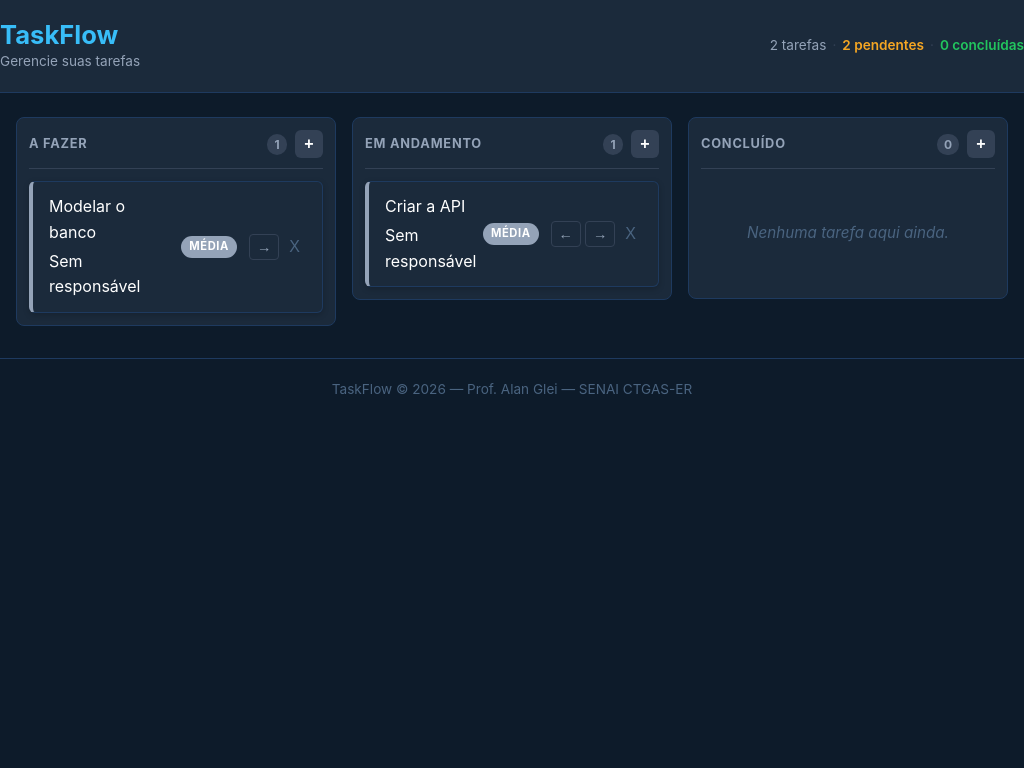
Test: Kanban › criar: o + abre o modal e a tarefa aparece
Click the button titled "Nova tarefa em A Fazer" in the row of "A Fazer". click: {"x": 309, "y": 144}
box: [295,130,323,158]
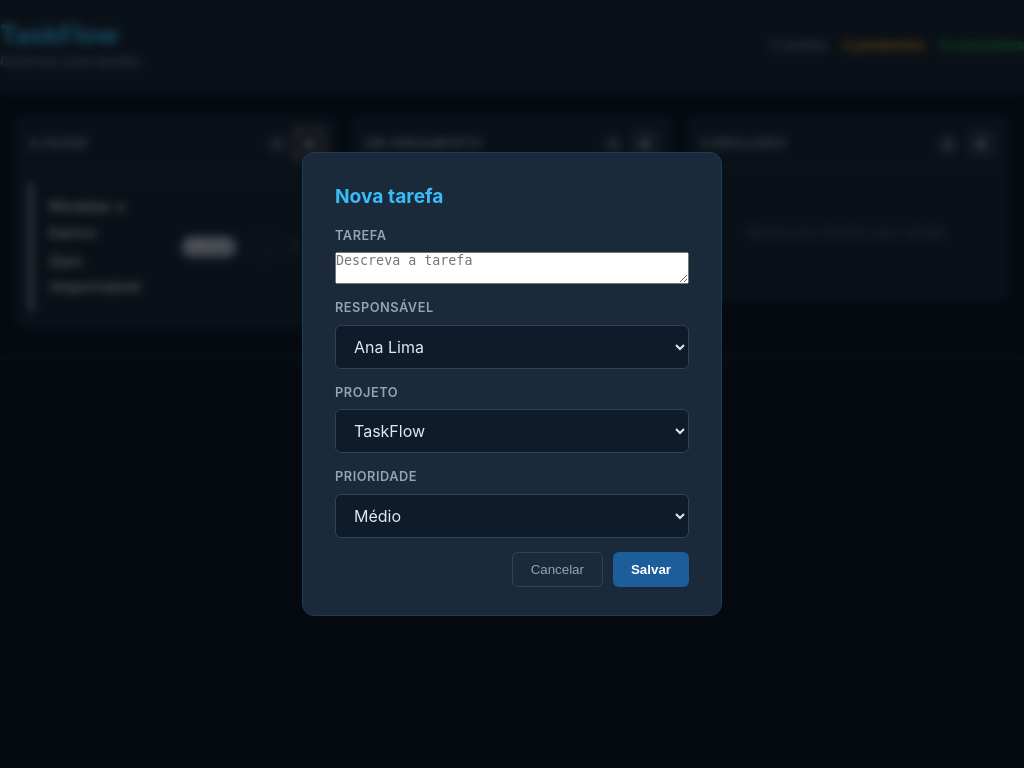
Type "Testar o Kanban" into the text box labelled "Tarefa". click: {"x": 512, "y": 268}
box: [335,252,689,284]
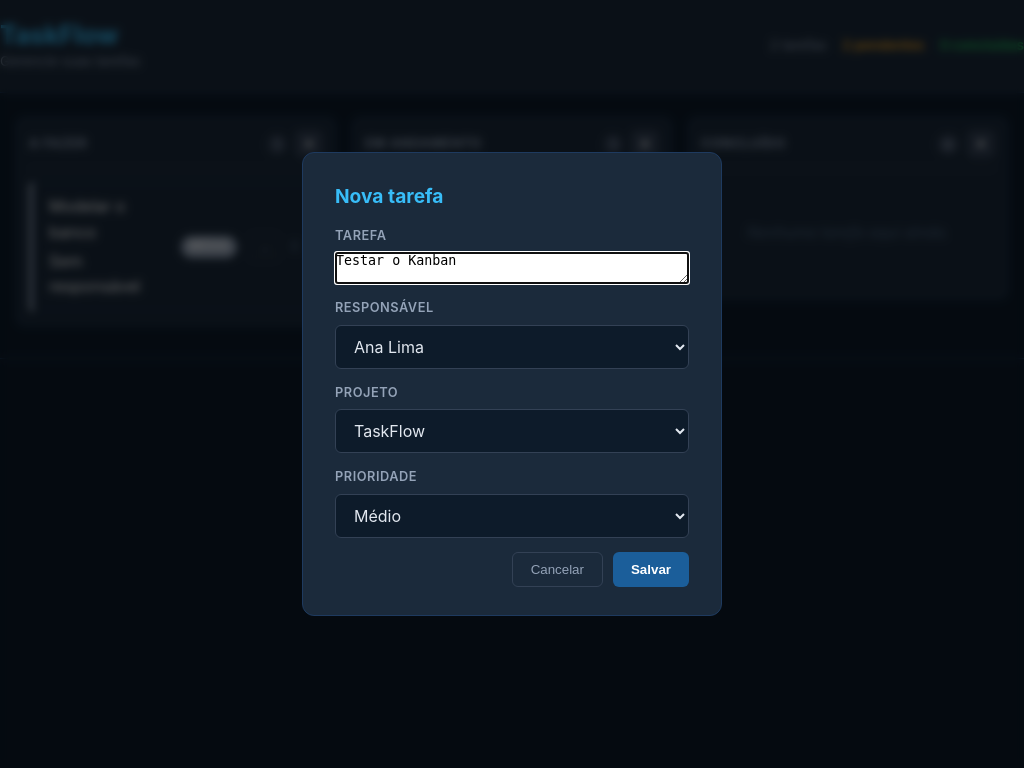
Click the button "Salvar". click: {"x": 651, "y": 569}
box: [613,552,689,587]
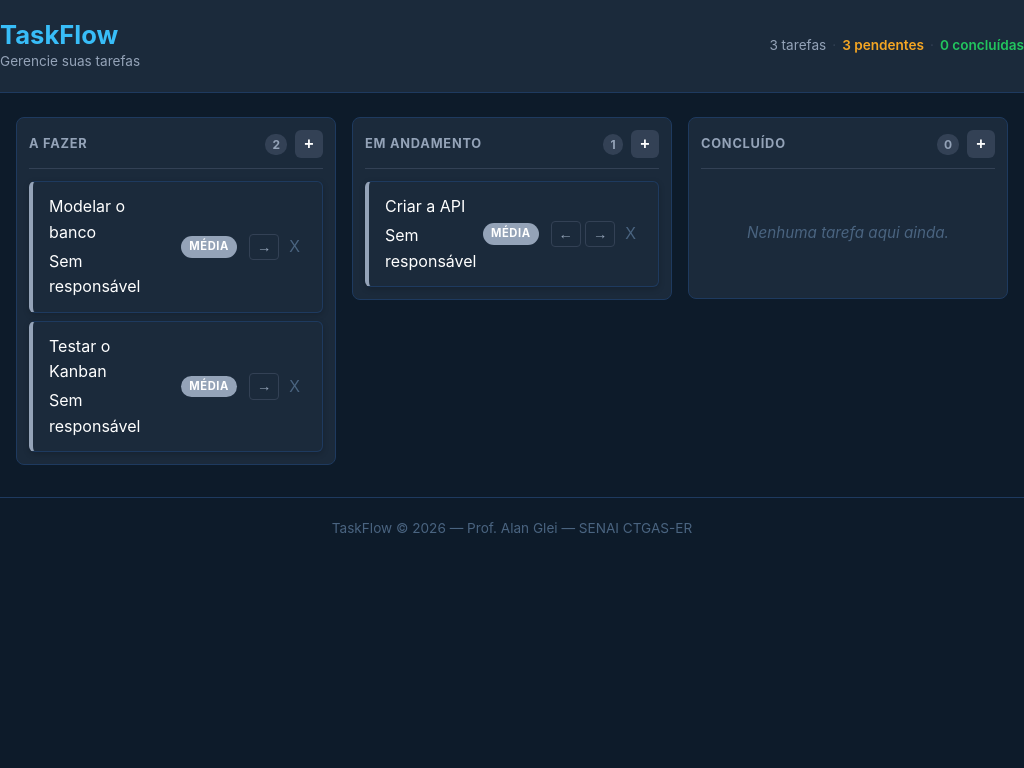
Check: the text "Testar o Kanban" is shown, box [49,336,110,381]
